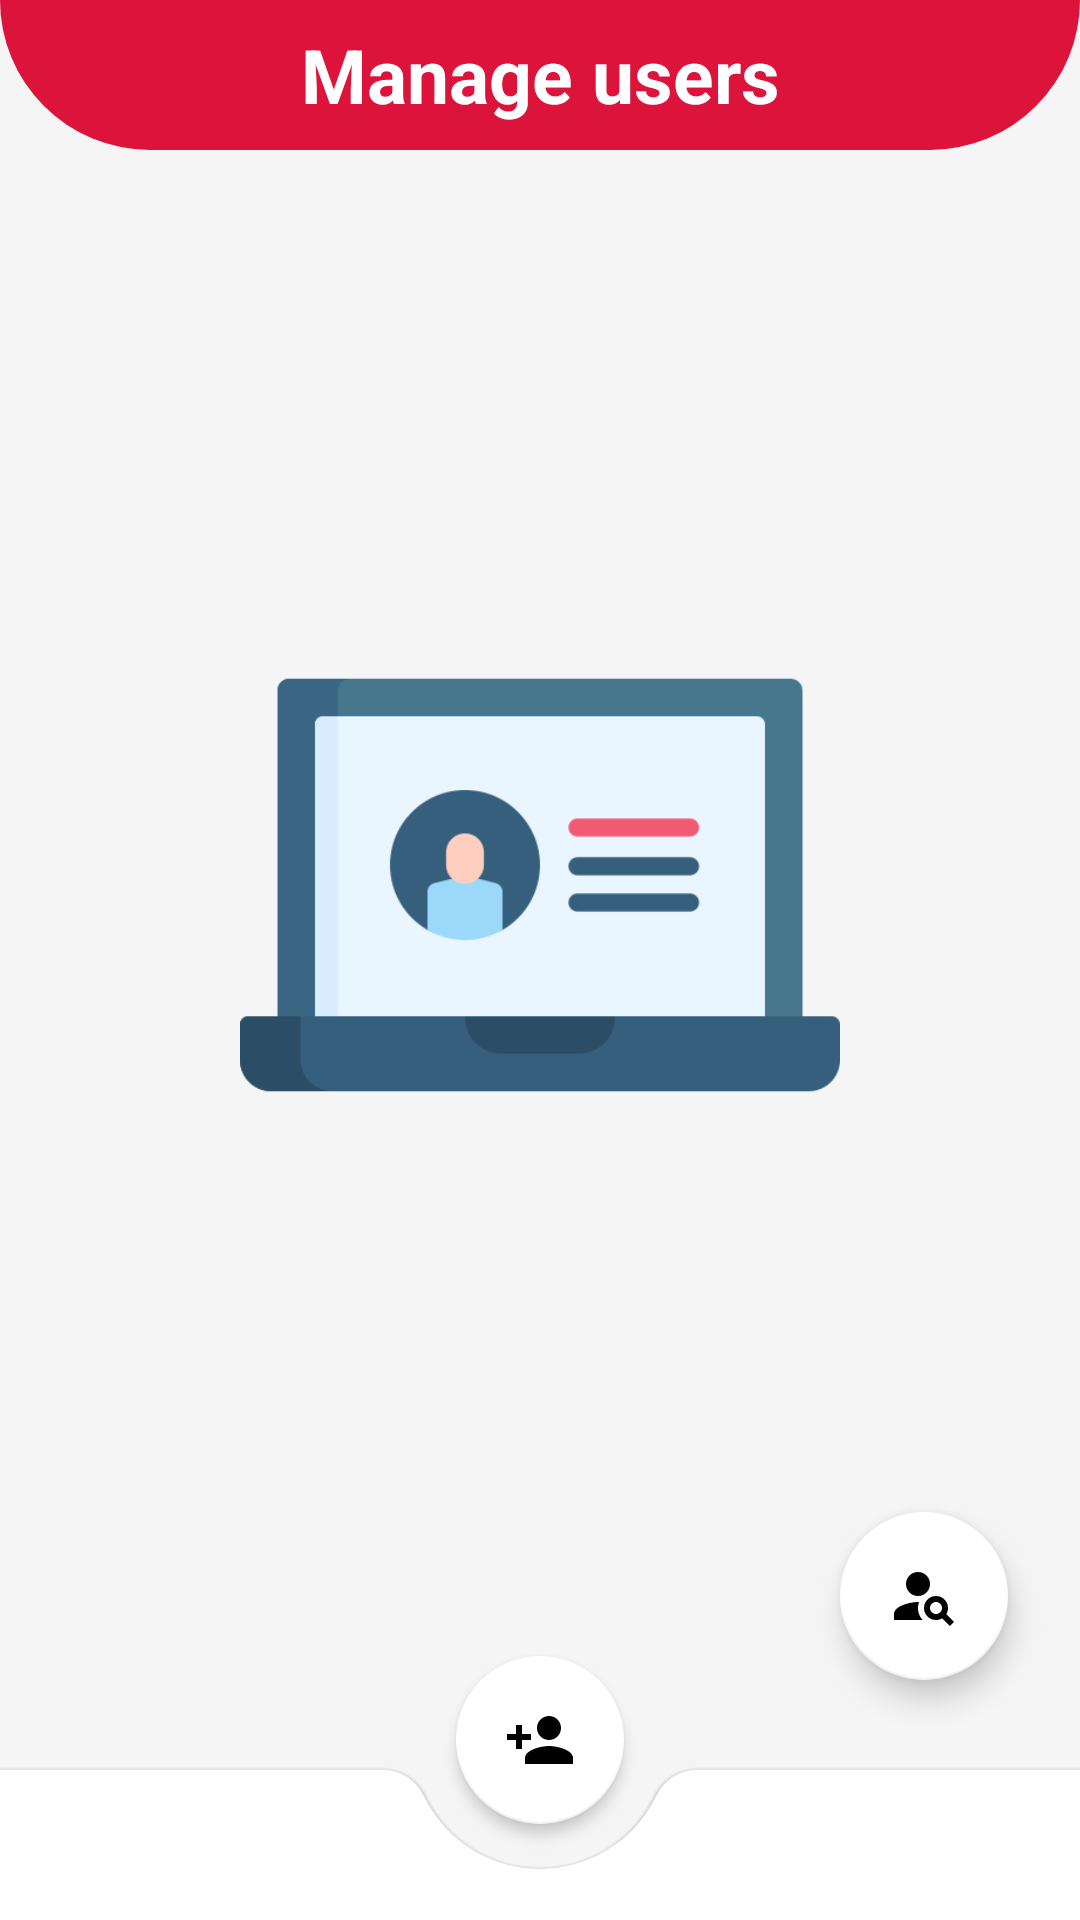

Where icons sit on this 1080px x 1920px app screen, as (x1, y1, x2, y2):
add: (456, 1686, 624, 1854)
person search: (840, 1512, 1008, 1680)
